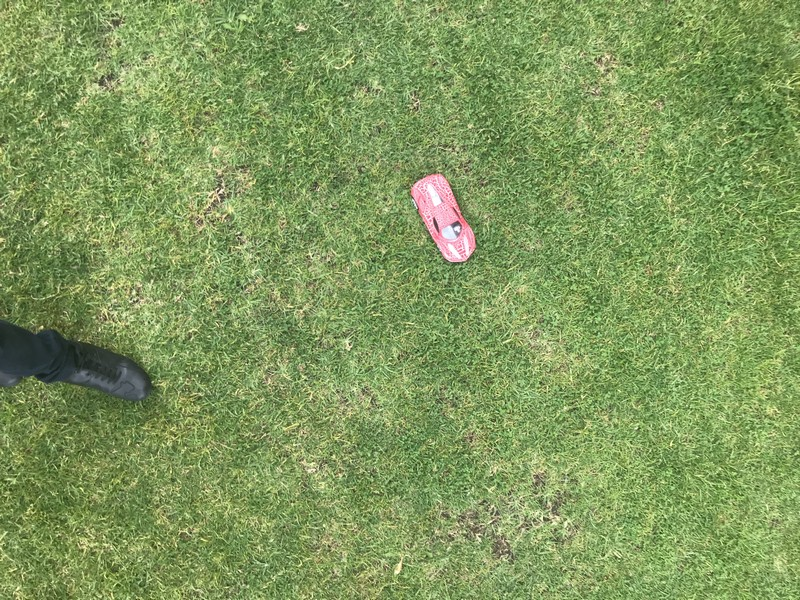RC: (410, 171, 476, 264)
